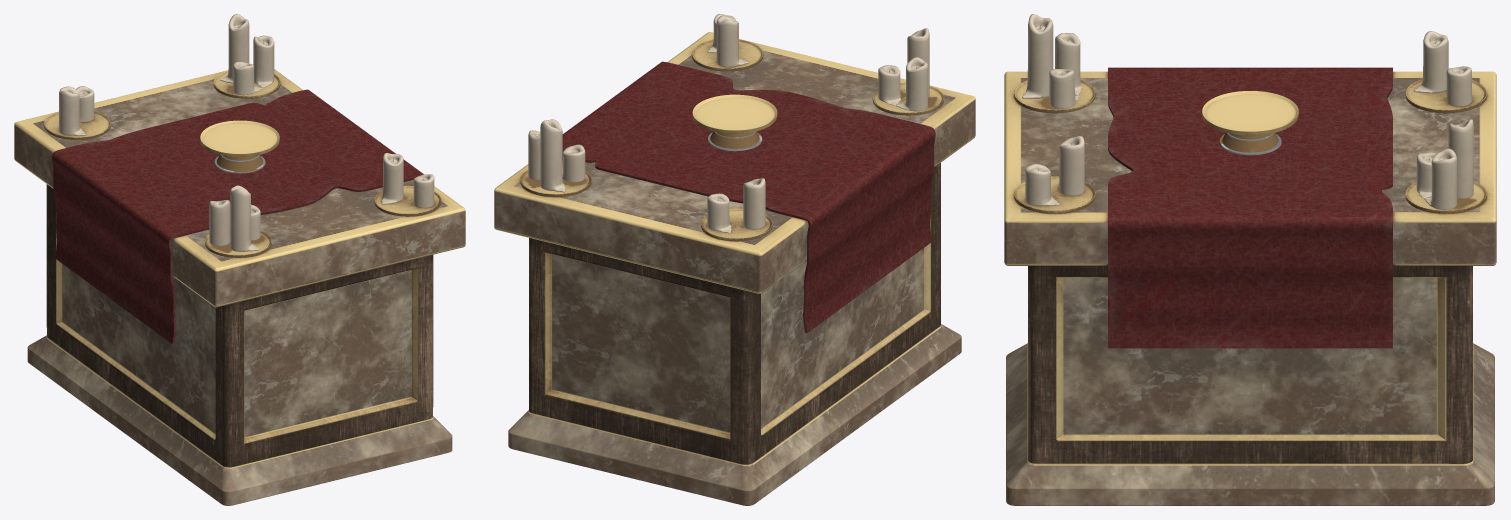
File: ritual_table.glb
3 renders of one model, left to right at view 1: azimuth 30°, elevation 25°; view 2: azimuth 150°, elevation 25°; view 3: azimuth 270°, elevation 25°, orthographic. The views are drawn at different scales.
Visible parts, largest first — view 1: Table1; view 2: Table1; view 3: Table1.
Boxes of the visible parts, x1=… form: Table1: x1=14, y1=14, x2=465, y2=505; Table1: x1=494, y1=14, x2=975, y2=505; Table1: x1=1004, y1=14, x2=1496, y2=505.
Size of the model in its own units: 124 by 139 by 167.
Materials: 1 (1 with a texture image).
